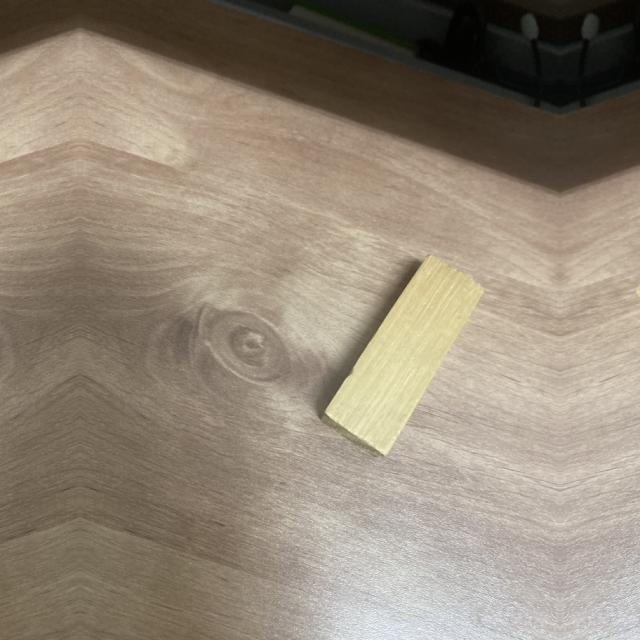jenga: (322, 255, 484, 458)
